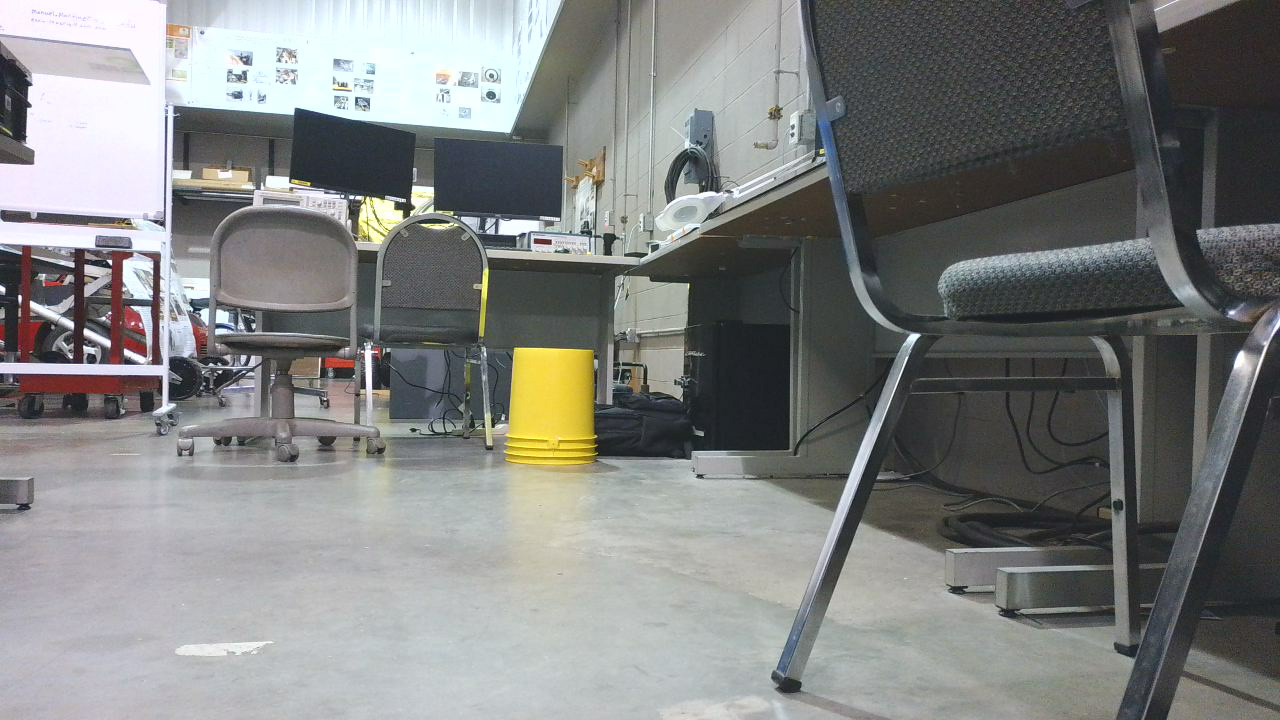yellow_bucket: (507, 349, 605, 470)
